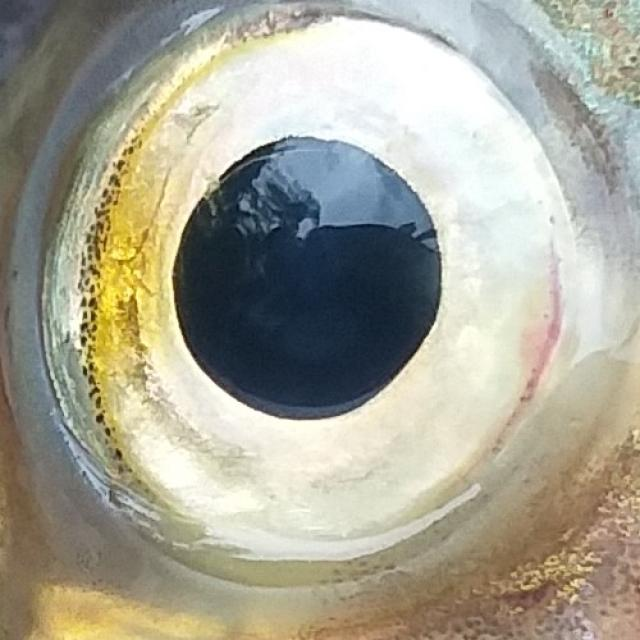Non-Fresh: (31, 6, 602, 596)
